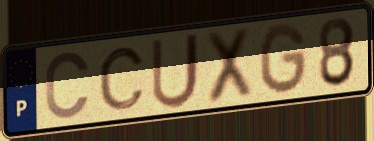8: (316, 16, 357, 91)
C: (43, 49, 93, 121), (96, 45, 148, 113)
G: (257, 21, 309, 97)
U: (149, 29, 202, 111)
X: (204, 24, 255, 107)
